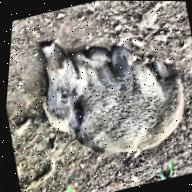boar: (21, 7, 192, 176)
